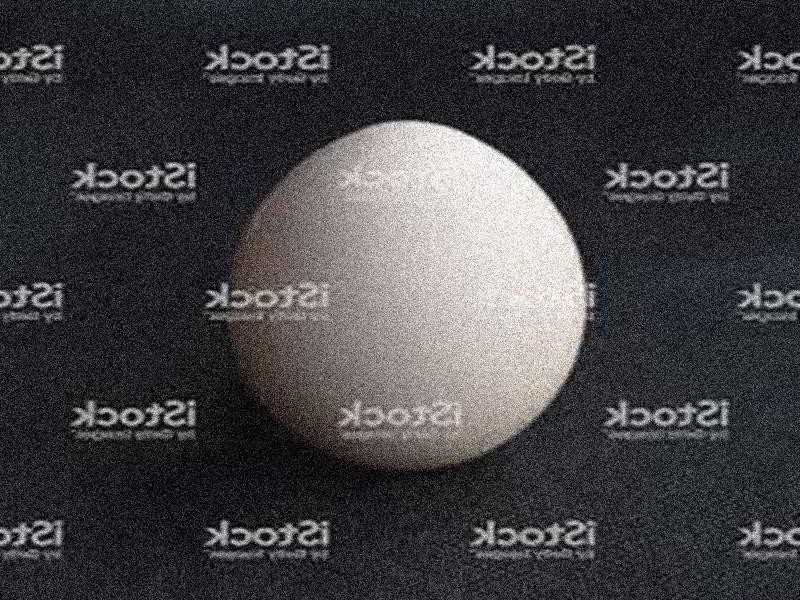Eggs: (227, 120, 586, 472)
